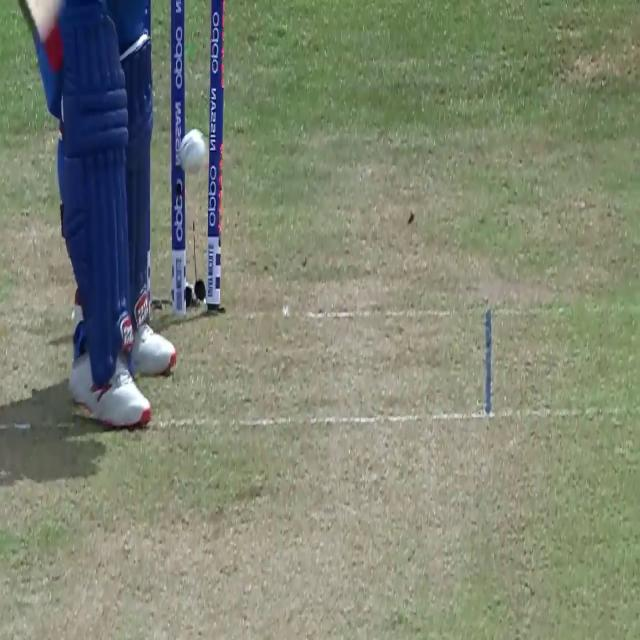ball: (180, 130, 206, 176)
